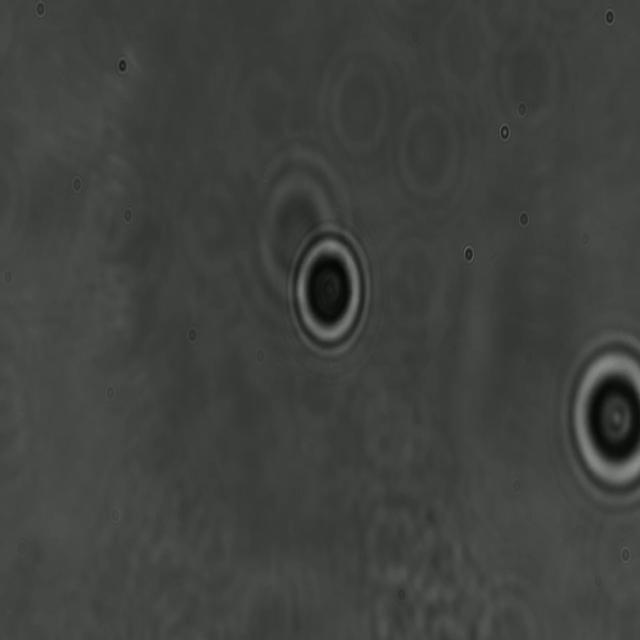DCELL: (284, 218, 376, 363)
